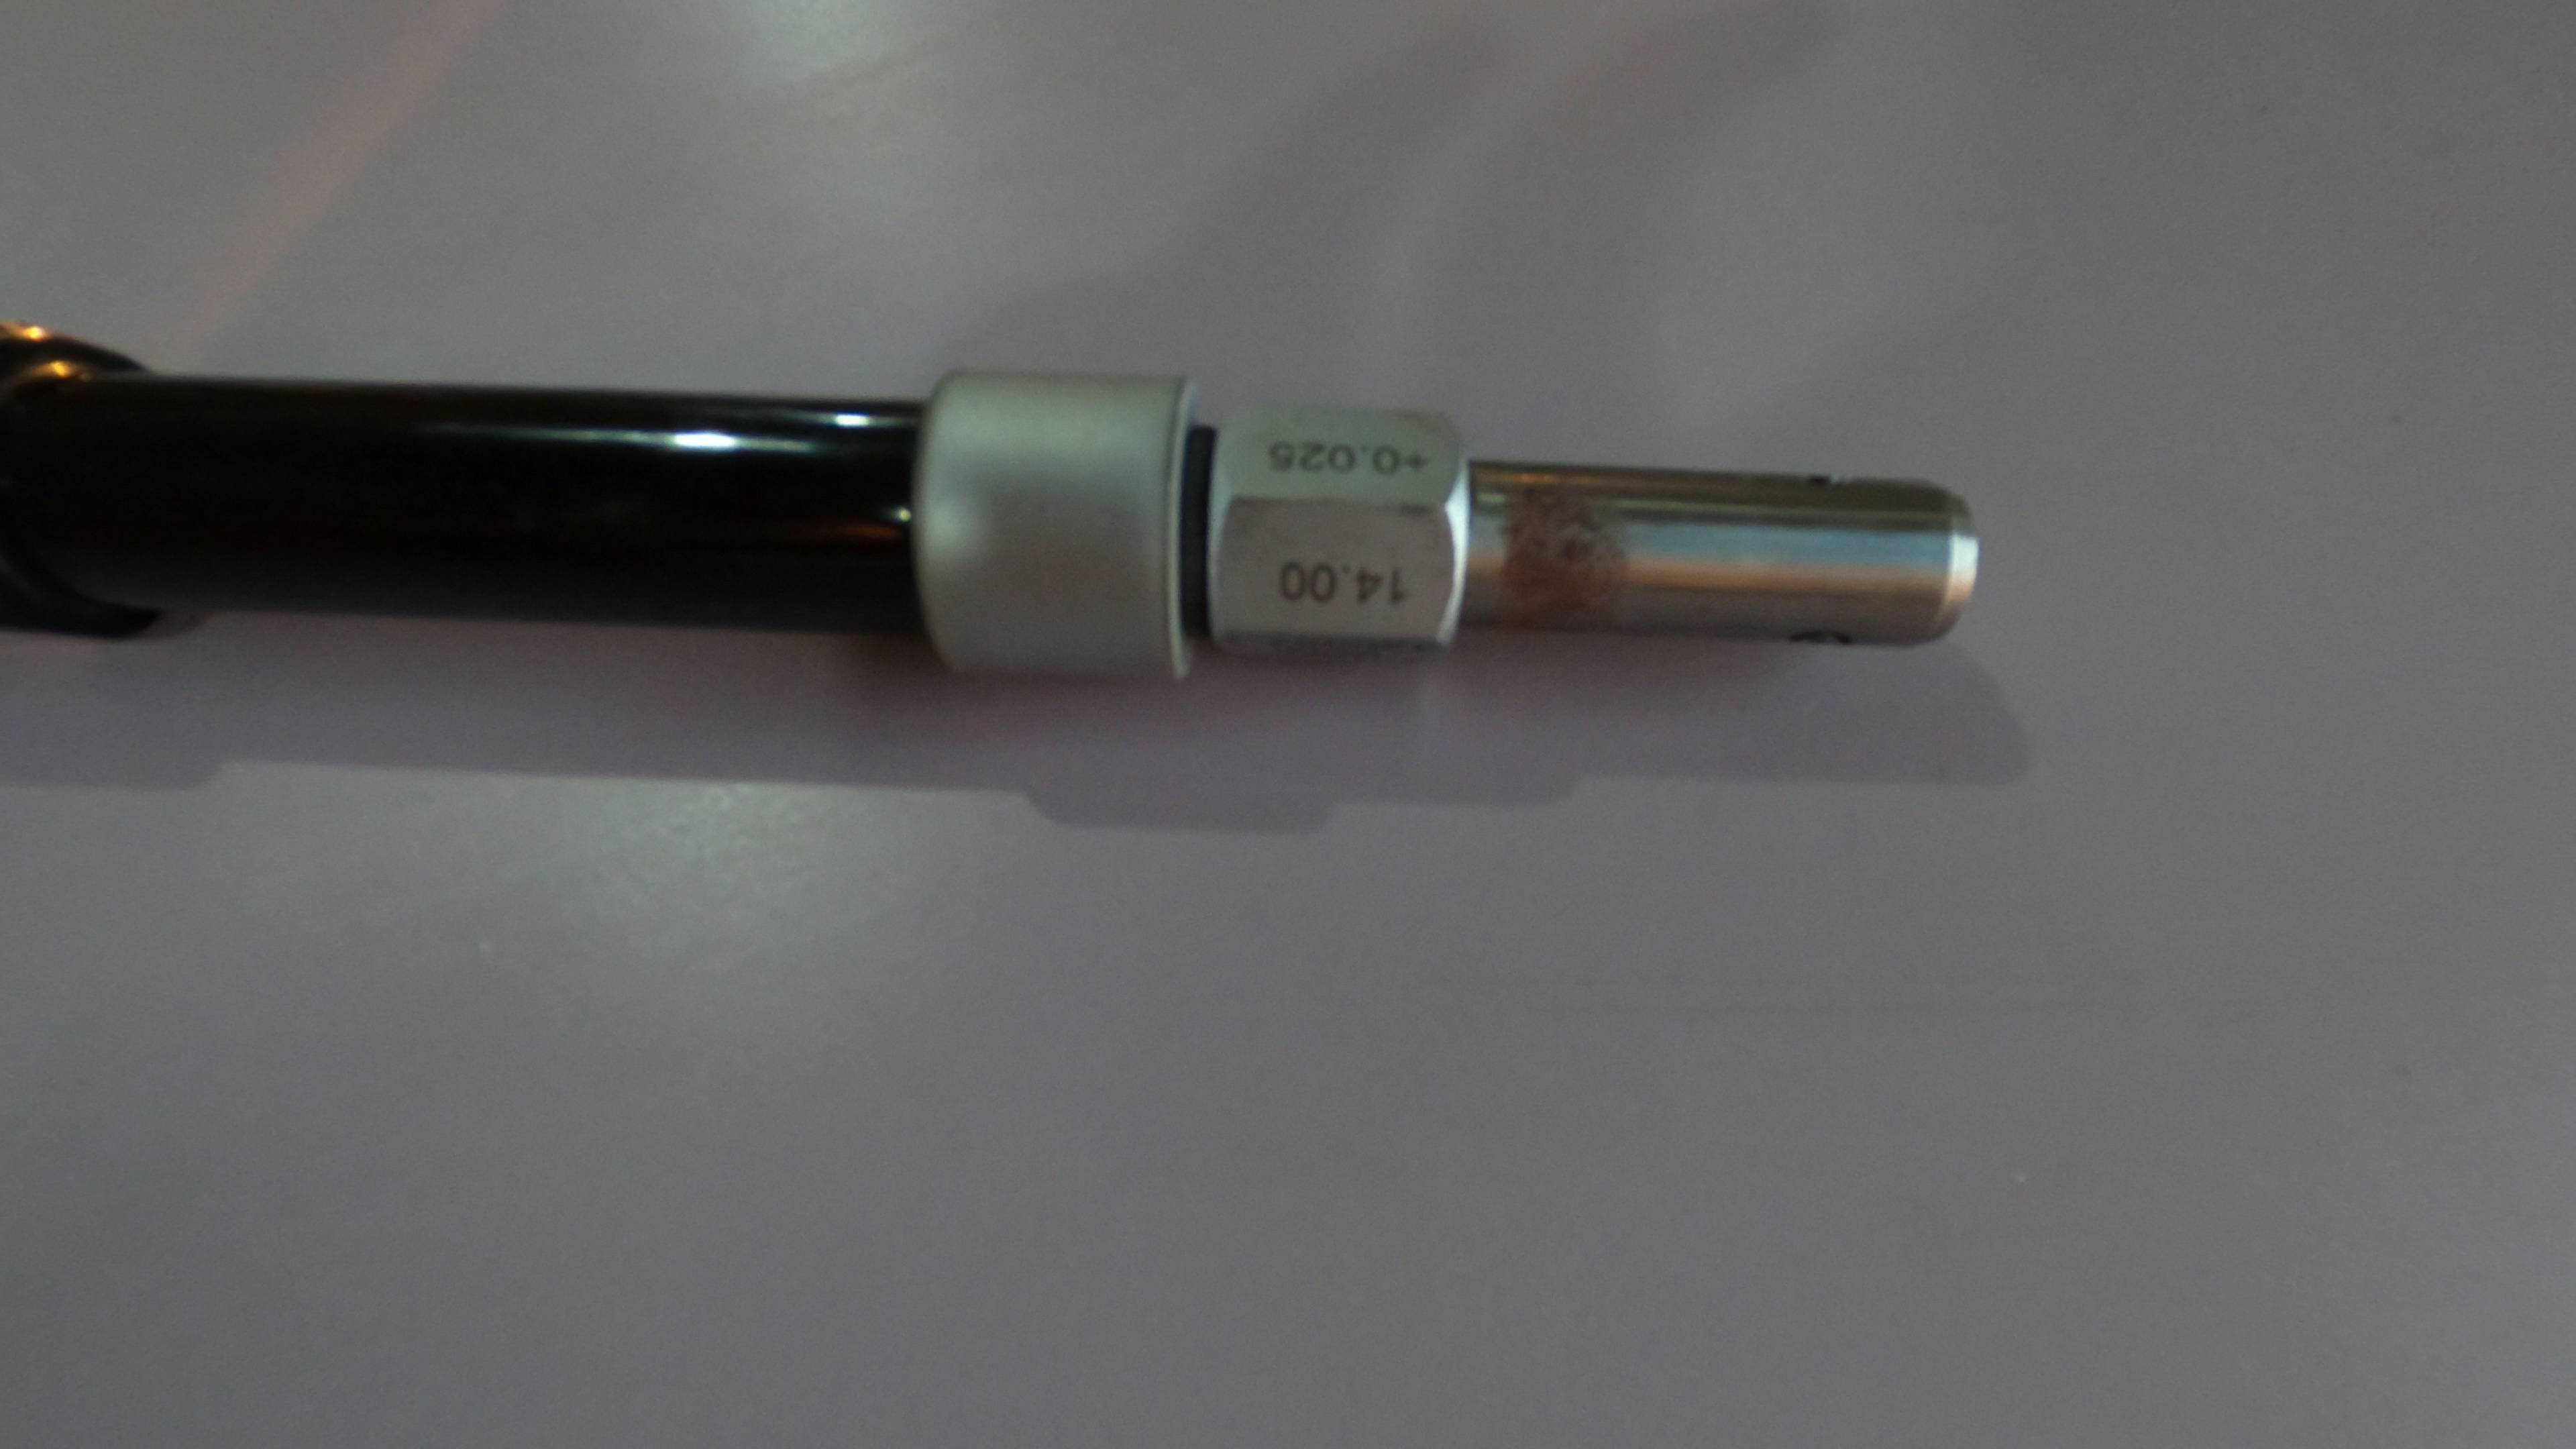air_gauge: (7, 304, 1990, 766)
